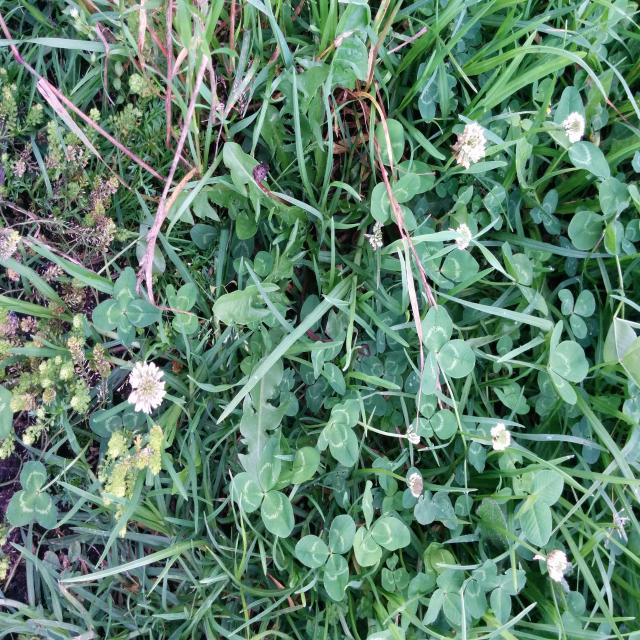Four Leaf Clover: (92, 266, 160, 347)
